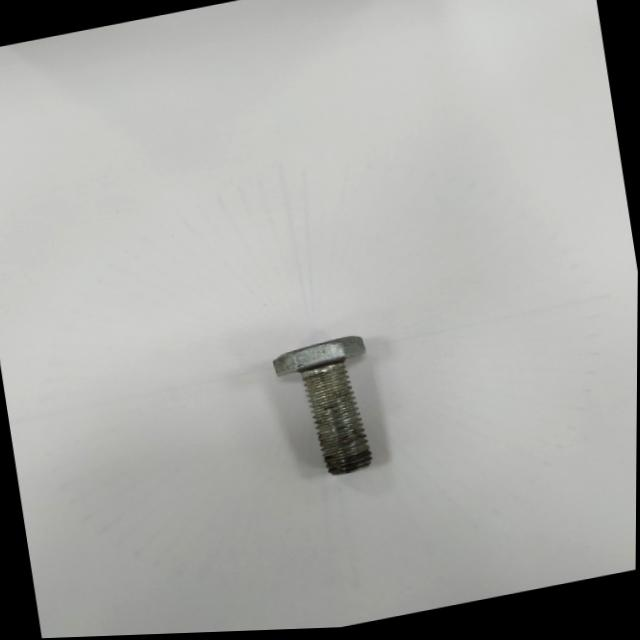Bolt: (274, 339, 372, 477)
